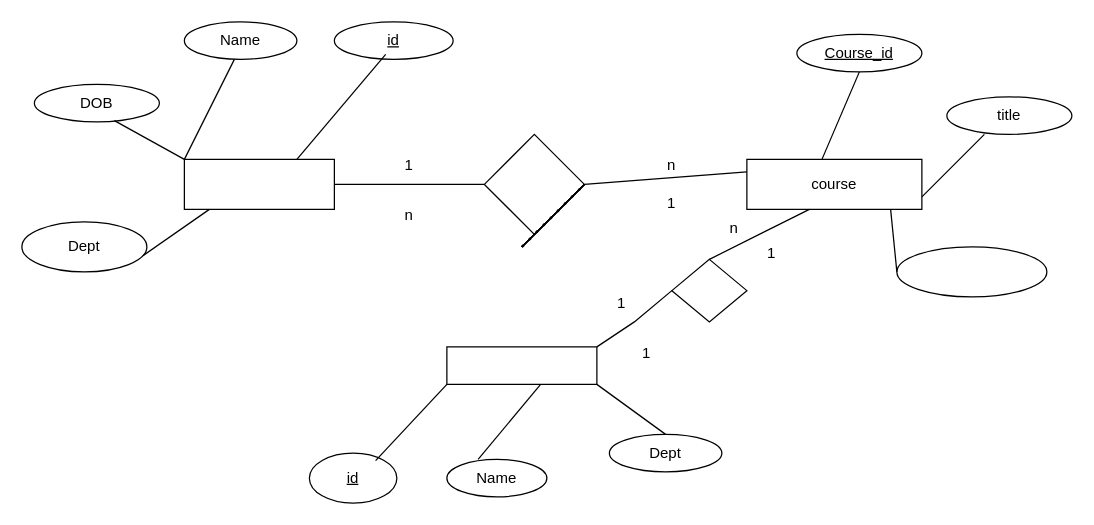
The diagram is 1094 pixels wide and 525 high, and some of its shapes have lost their labels. Each missing label, with the centre of its shape:
enroll: point (533, 183)
instructor: point (521, 365)
No of Credits: point (971, 271)
Student: point (258, 183)
taught: point (709, 290)
